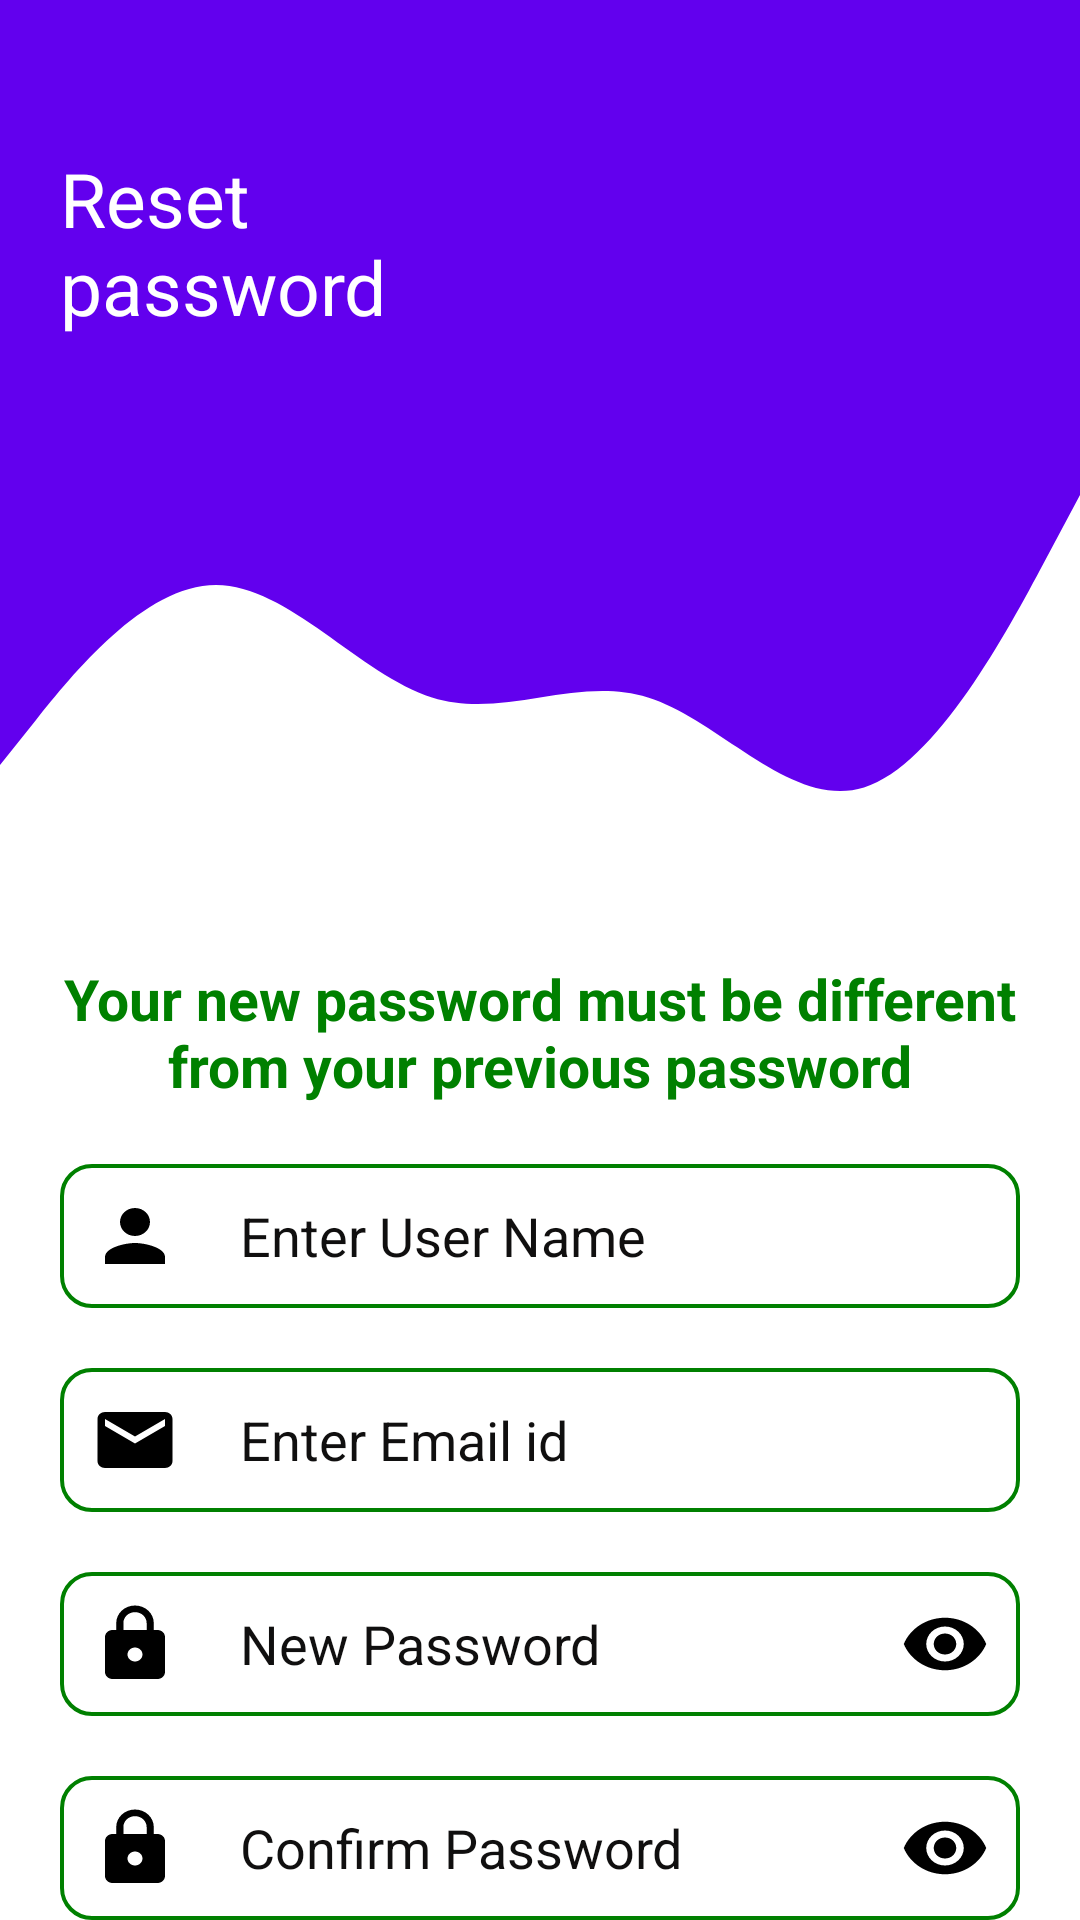

Icon click points for this 1080 x 1920 phone screenshot, format (x,y):
visibility: (945,1644), (945,1848)
